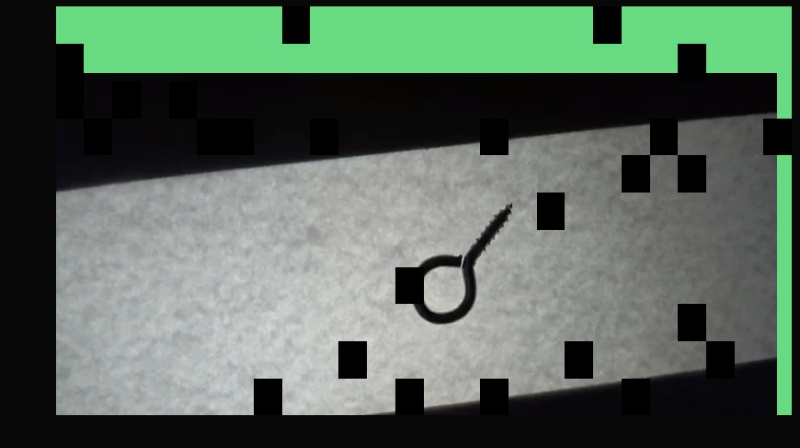O001: (407, 200, 515, 326)
